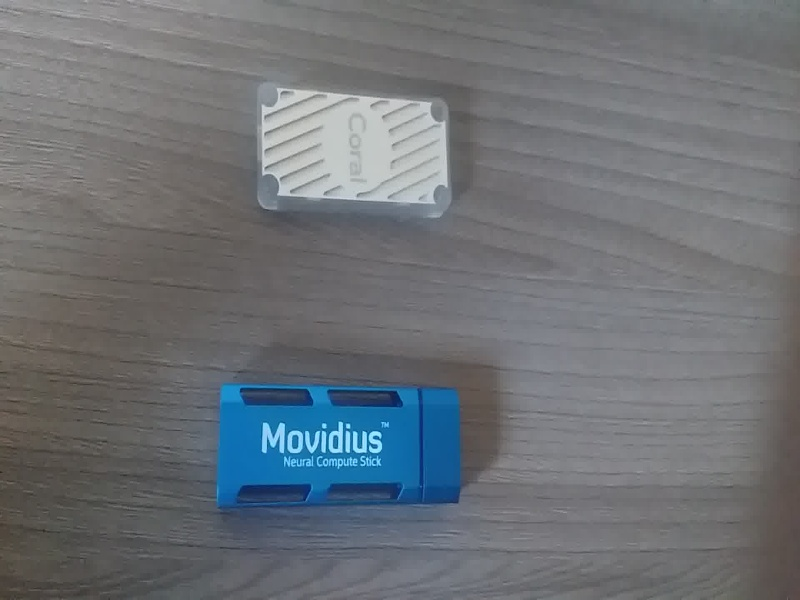coral: (247, 77, 467, 228)
movidius: (210, 368, 475, 521)
